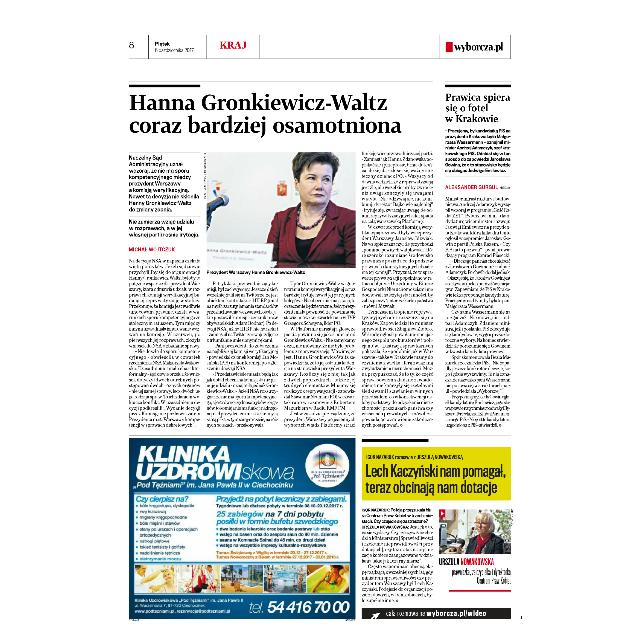article: (127, 85, 436, 431), (444, 84, 514, 432)
